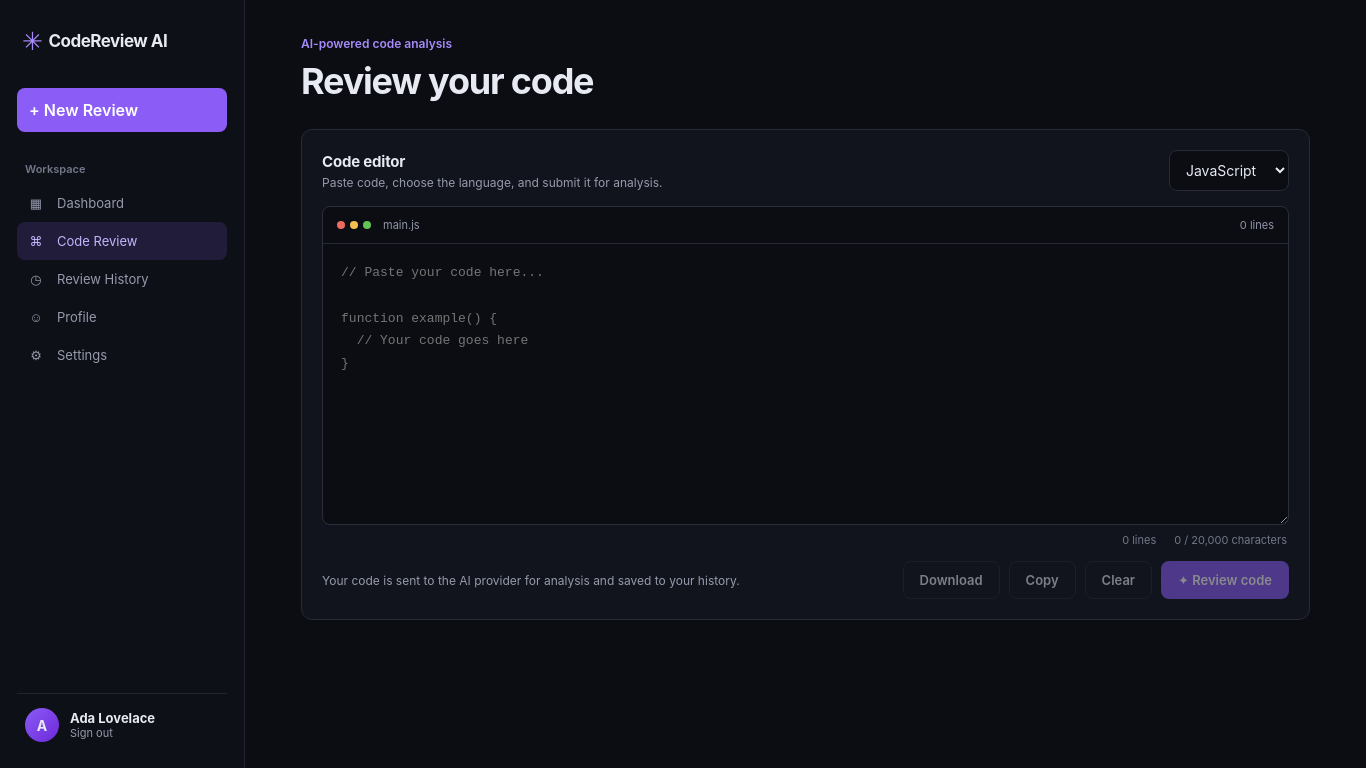
Scenario: code review page › submits the language + code and renders the real result
Click the text box named "code to review": [805, 384] box [323,244,1288,524]
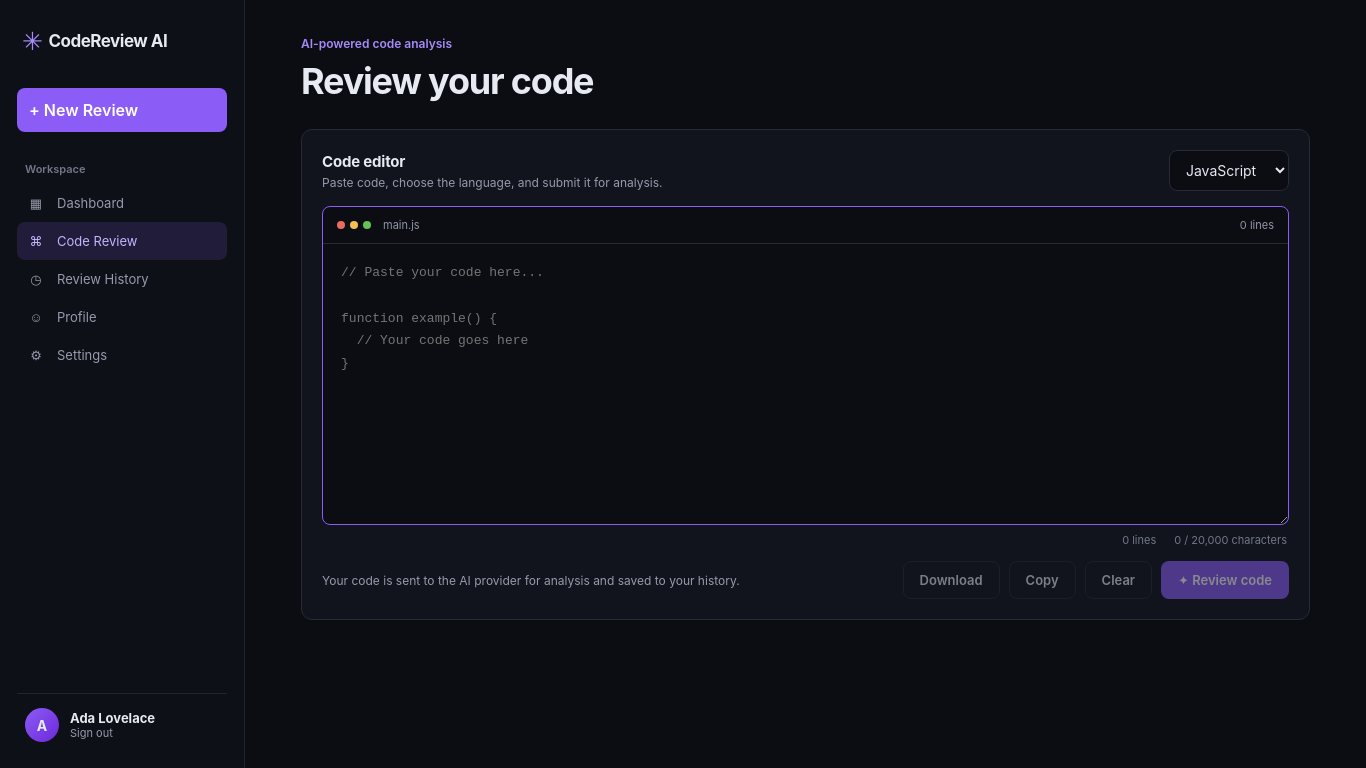
Type keys "function f() { return 1 }"
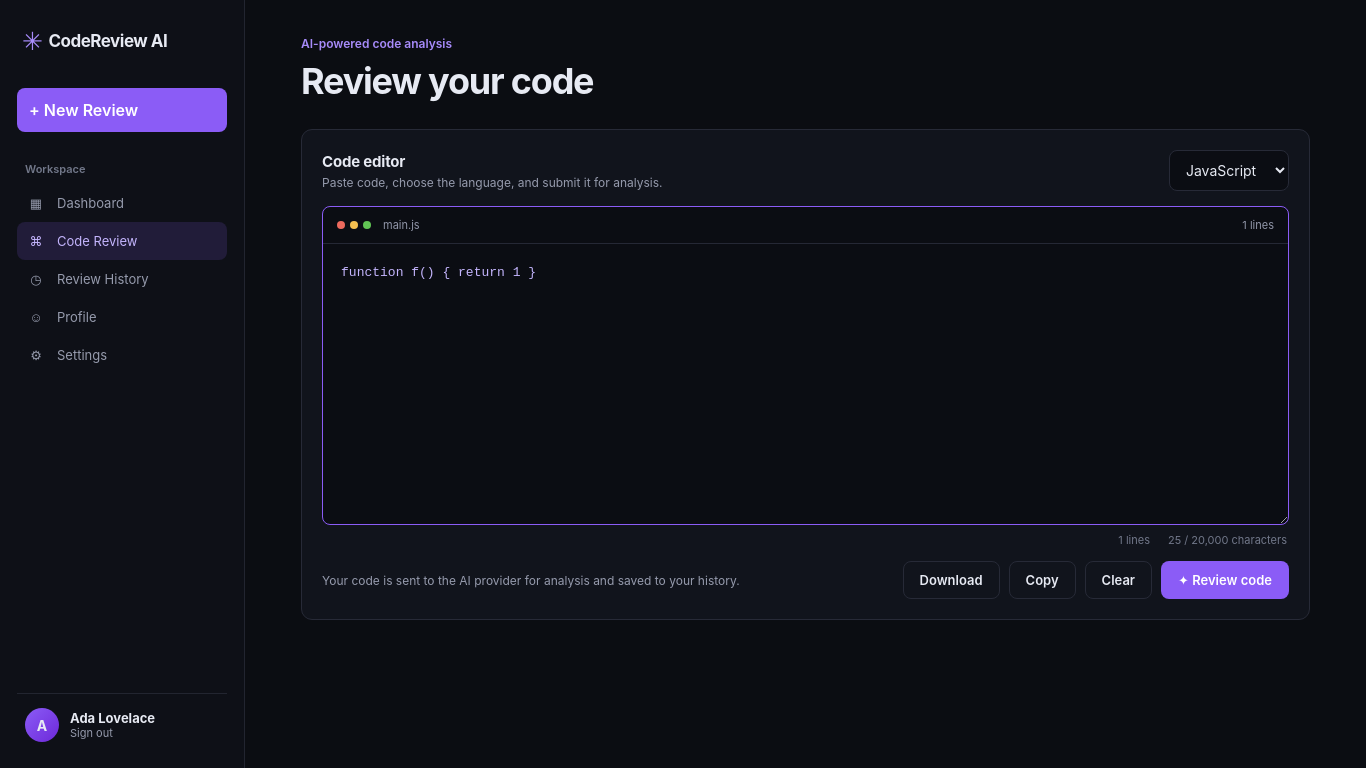
Select "Python" in the dropdown named "programming language": [1229, 170] box [1169,150,1289,191]
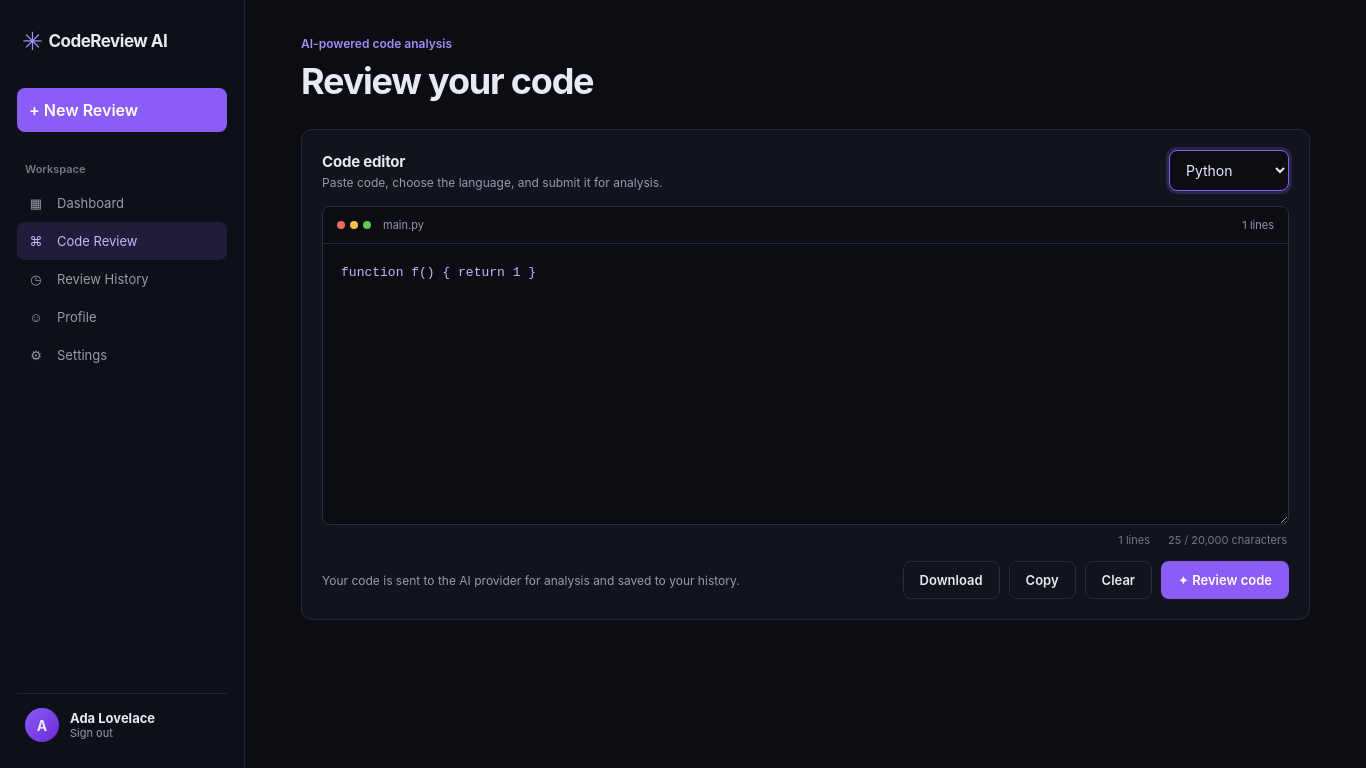
Click the button "✦ Review code": [1225, 580] box [1161,561,1289,599]
(page scrolled)
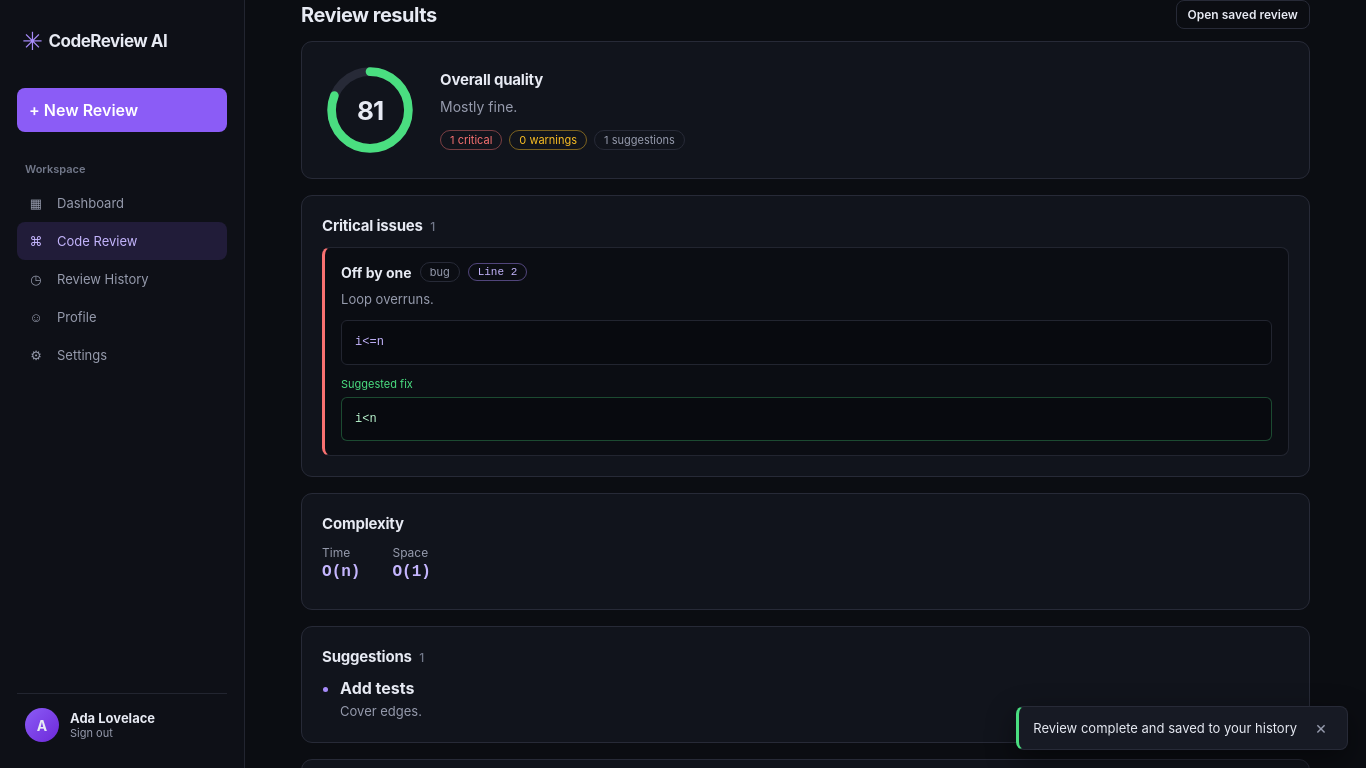
Result: the text "Off by one" is shown at [341,264,412,280]
Result: the text "Mostly fine." is shown at [440,98,517,115]
Result: the picture named "quality score 81" is shown at [322,62,418,158]
